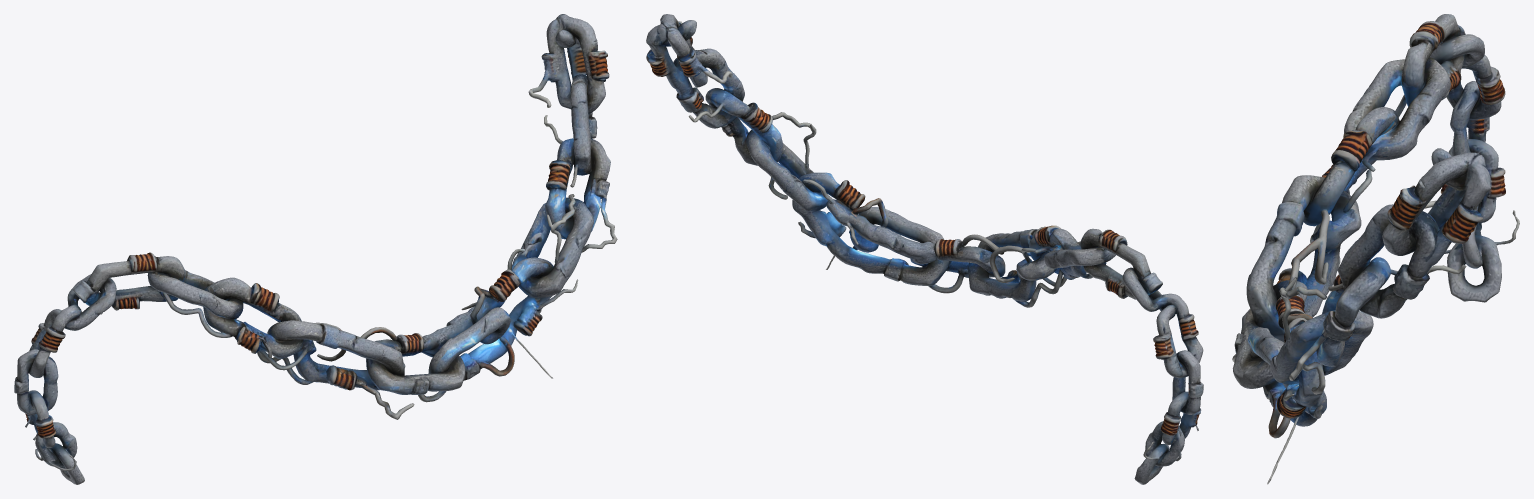
Rendered from Chaine electrique.glb.
3 views of the same model, side by side, from view 1: azimuth 30°, elevation 25°; view 2: azimuth 150°, elevation 25°; view 3: azimuth 270°, elevation 25° (orthographic). The views are drawn at different scales.
Parts seen in each view (by area): view 1: tripo_node_7935372e-8a29-44ce-bf12-247ec3263017; view 2: tripo_node_7935372e-8a29-44ce-bf12-247ec3263017; view 3: tripo_node_7935372e-8a29-44ce-bf12-247ec3263017.
Boxes of the visible parts, left/top/right/bottom form: tripo_node_7935372e-8a29-44ce-bf12-247ec3263017: left=14, top=14, right=617, bottom=484; tripo_node_7935372e-8a29-44ce-bf12-247ec3263017: left=646, top=14, right=1203, bottom=484; tripo_node_7935372e-8a29-44ce-bf12-247ec3263017: left=1232, top=14, right=1519, bottom=484.
Bounding box in the file's own units: 1 × 0.5865 × 0.3238.
1 material, 1 textured.
